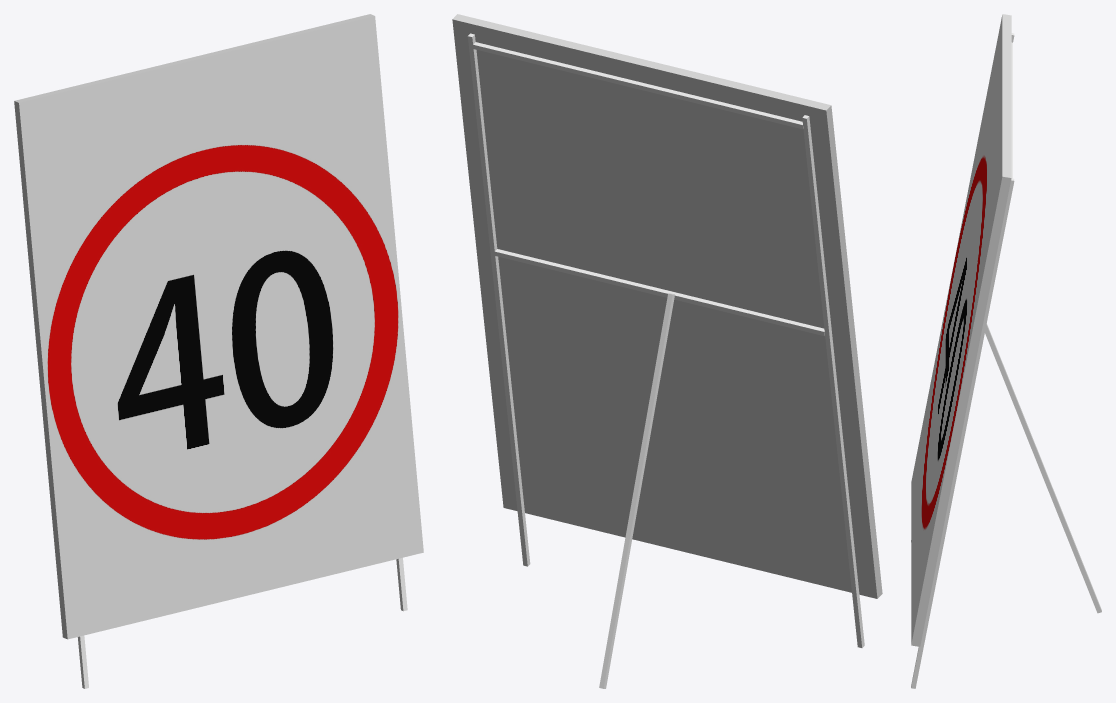
3 views of the same model, side by side, from view 1: azimuth 30°, elevation 25°; view 2: azimuth 150°, elevation 25°; view 3: azimuth 270°, elevation 25° (orthographic). The views are drawn at different scales.
Parts seen in each view (by area): view 1: 立方体-材质.3, 立方体-材质.5; view 2: 立方体-材质.5, 立方体.4, 立方体.3, 立方体.7, 立方体.5, 立方体.6; view 3: 立方体-材质.3, 立方体-材质.5, 立方体.3, 立方体.7.
Part boxes in pixels (<box>): 立方体-材质.3: <box>19,16,423,639</box>; 立方体-材质.5: <box>14,14,374,639</box>; 立方体-材质.5: <box>452,14,882,598</box>; 立方体.4: <box>802,115,864,647</box>; 立方体.3: <box>468,33,530,566</box>; 立方体.7: <box>599,293,674,688</box>; 立方体.5: <box>469,42,803,129</box>; 立方体.6: <box>491,249,824,336</box>; 立方体-材质.3: <box>911,15,1002,643</box>; 立方体-材质.5: <box>911,14,1011,646</box>; 立方体.3: <box>911,178,1014,688</box>; 立方体.7: <box>985,323,1101,613</box>.
Size of the model in its own units: 5.71 by 8.56 by 2.83.
3 materials, 1 textured.
